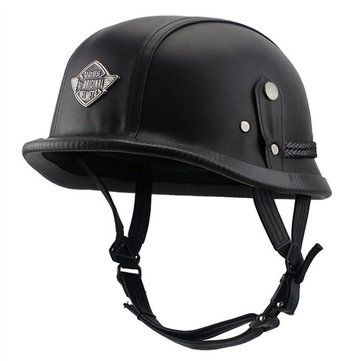with_helmet: (20, 13, 334, 350)
